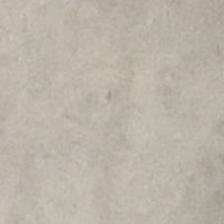Non_Crack: (20, 20, 190, 194)
